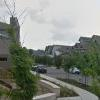Tree: (65, 48, 100, 92)
